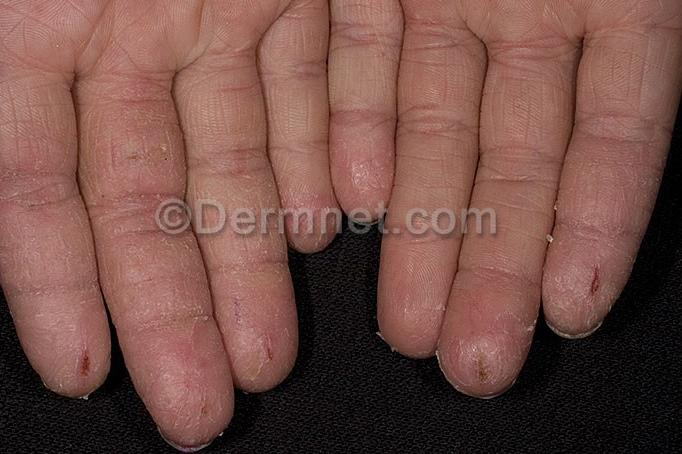excoriacion 1: (440, 312, 533, 398)
liquenificacion 1: (0, 0, 682, 450)
xerosis 1: (0, 88, 389, 446), (542, 150, 658, 332)
